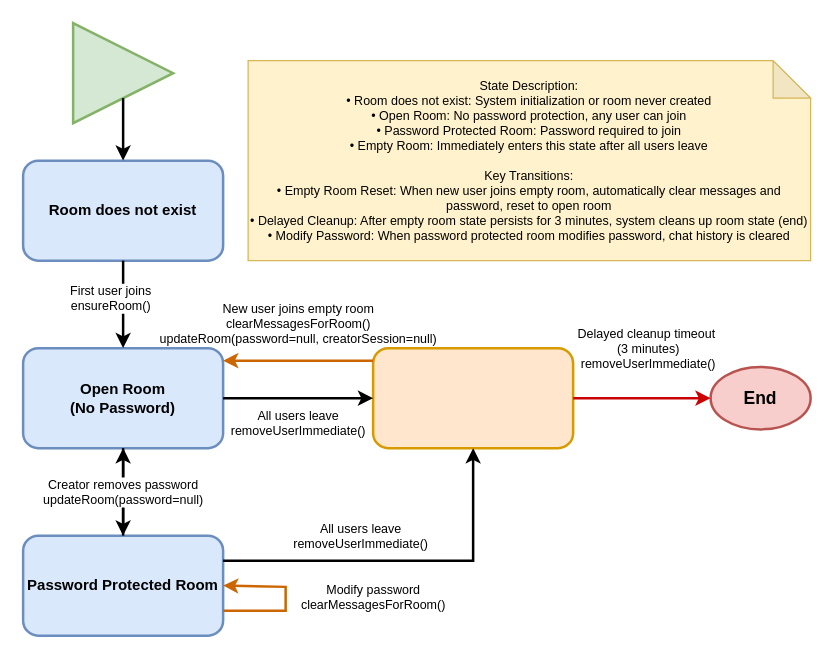
This 833x658 diagram has some shape labels left out. Each missing label, with the centre of its shape:
Empty Room (Pending Reset): point (472, 397)
Start: point (122, 72)
